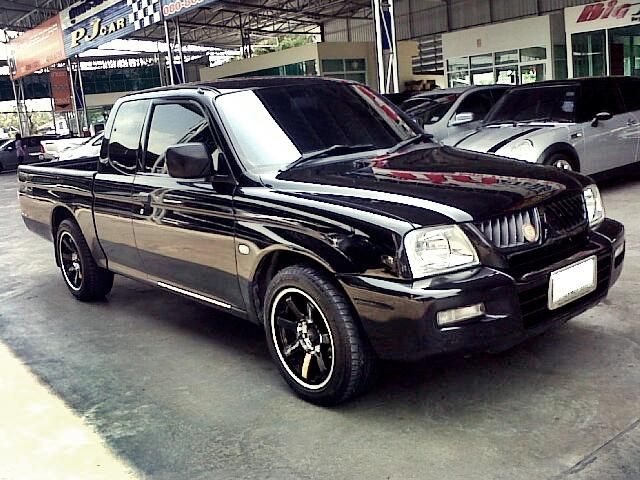pickup: (13, 72, 626, 405)
